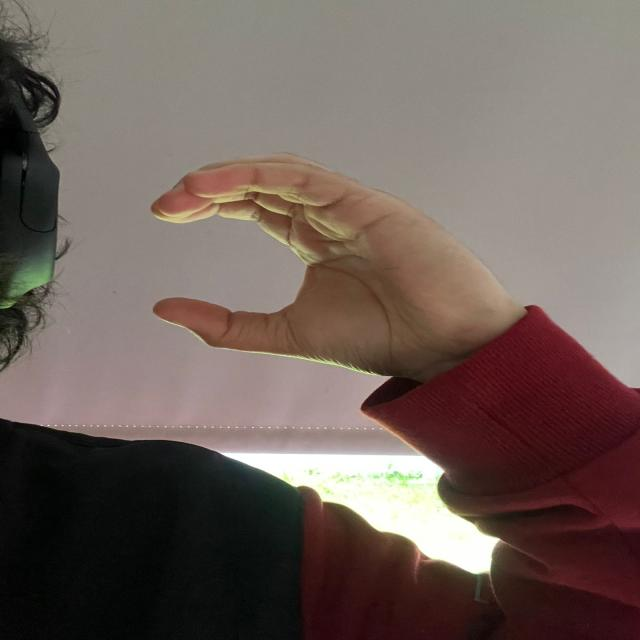C: (145, 141, 508, 399)
